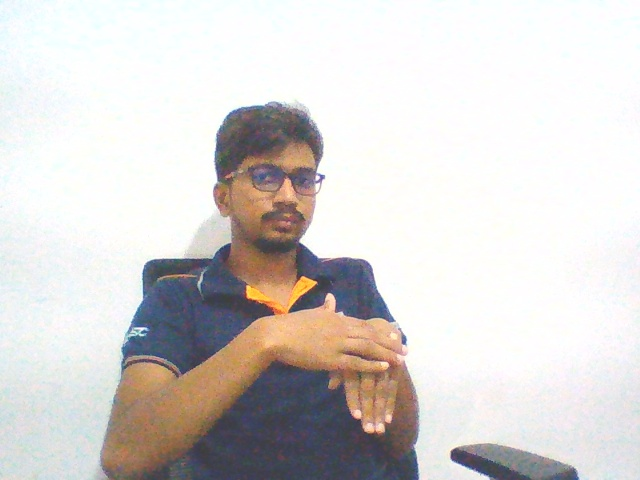pineapple: (243, 290, 412, 439)
